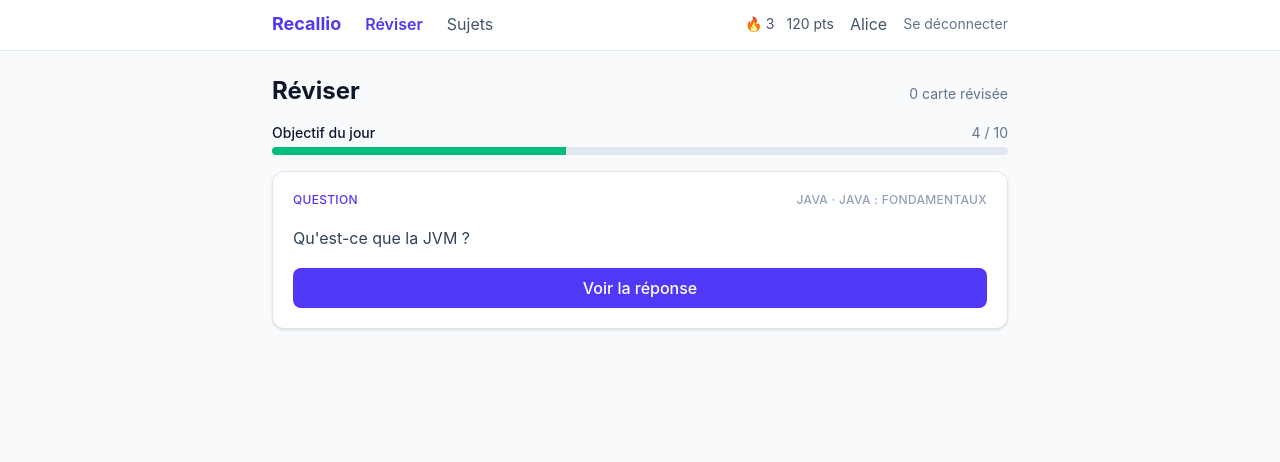
Test: ReviewPage › sends the same request id again when retrying after an error
The image size is (1280, 462).
Click the button "Voir la réponse".
click(640, 288)  # box [293,268,987,308]
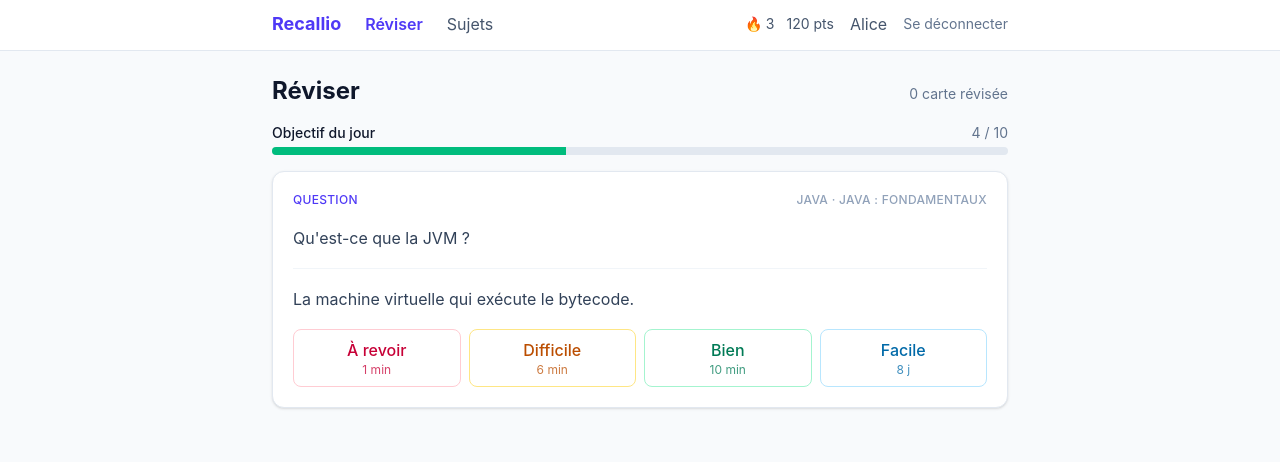
Click the button "Difficile 6 min".
click(552, 358)  # box [468,329,636,387]
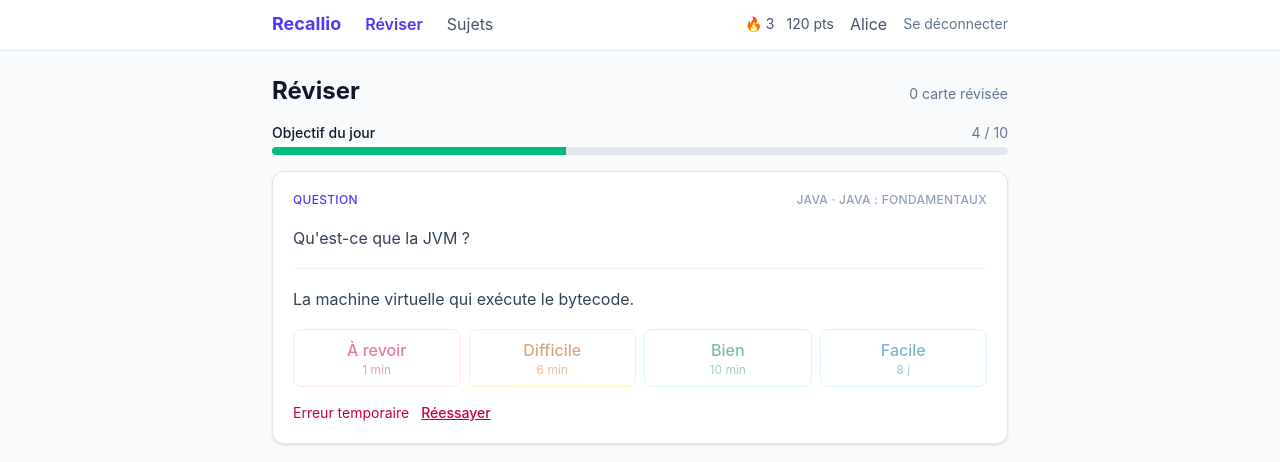
Expected: the message shows "Erreur temporaire", [293,404,409,421]
Click the button "Réessayer".
click(456, 413)  # box [421,403,491,423]
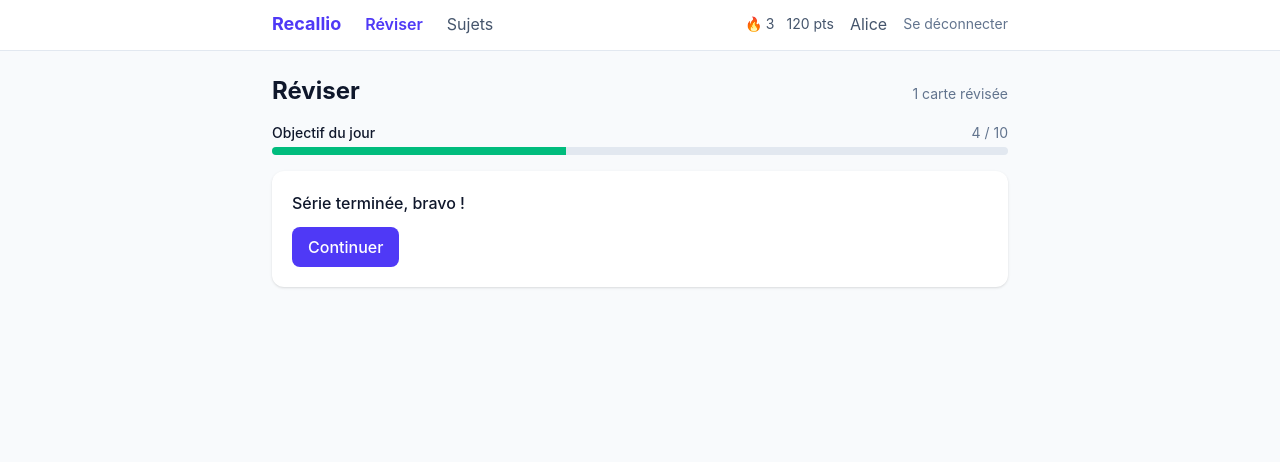
Expected: the text "Série terminée, bravo !" is shown, [292,191,465,215]
